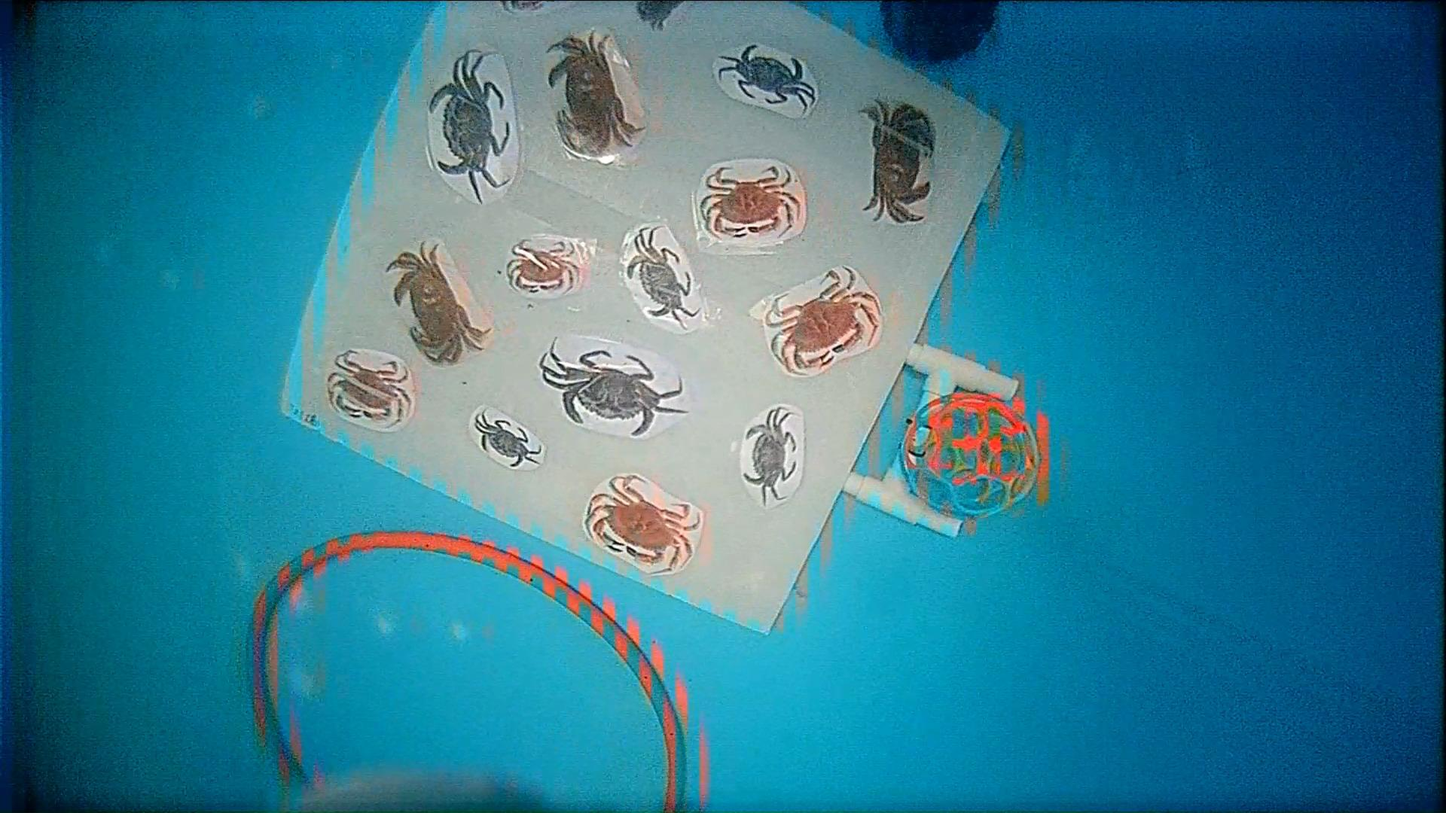GreenCrab: (539, 341, 687, 437), (429, 51, 511, 202), (624, 227, 697, 326), (718, 44, 816, 104), (743, 406, 795, 507), (474, 411, 540, 467)
